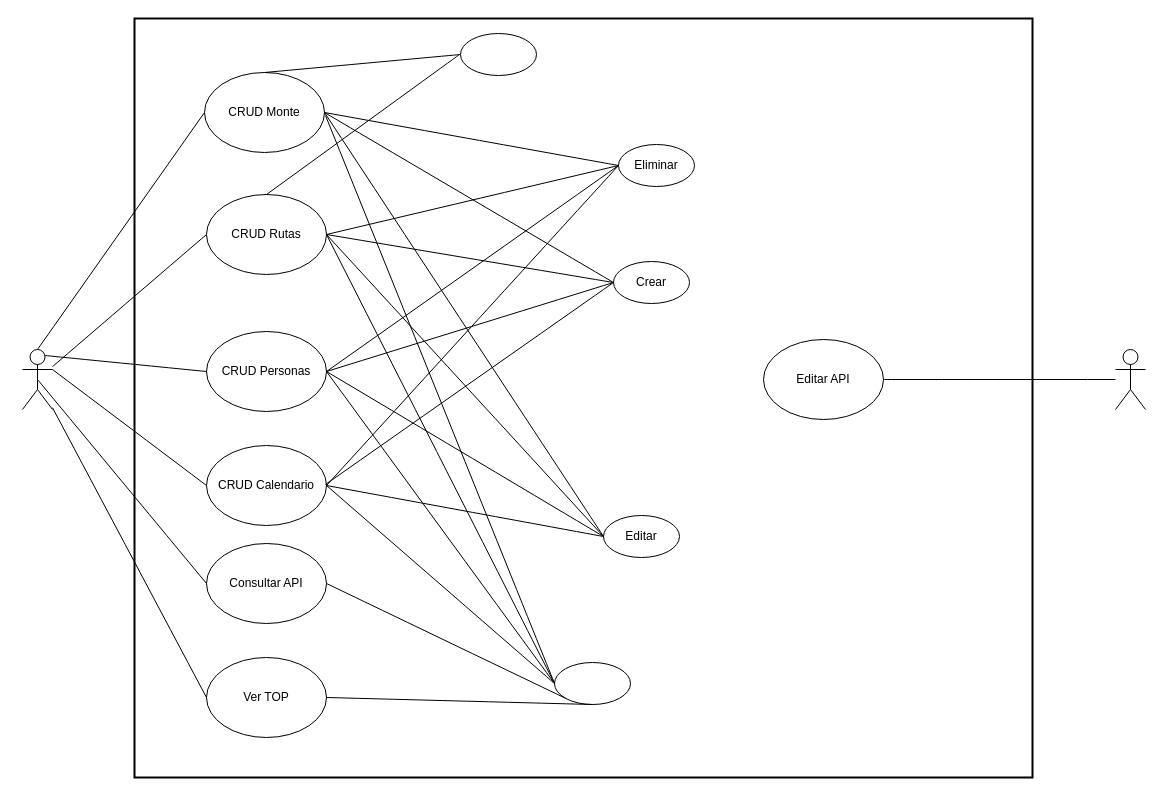
The diagram is 1165 pixels wide and 795 high, and some of its shapes have lost their labels. Each missing label, with the centre of its shape:
Admin: pixel 1130 379
Consultar: pixel 592 683
Usuario: pixel 37 379
Ver mas: pixel 498 54
